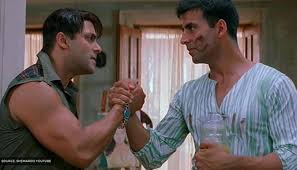Bad: (1, 1, 297, 170)
